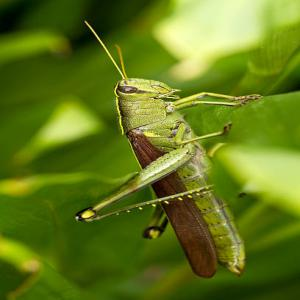locust: (74, 32, 279, 279)
